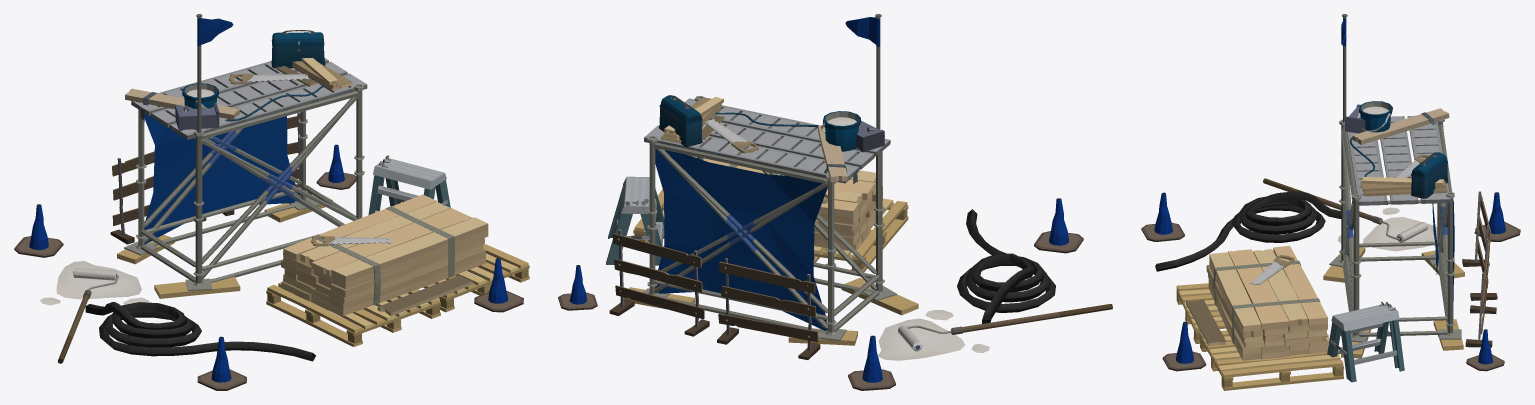
3 renders of one model, left to right at view 1: azimuth 30°, elevation 25°; view 2: azimuth 150°, elevation 25°; view 3: azimuth 270°, elevation 25°, orthographic. The views are drawn at different scales.
Visible parts, largest first — view 1: baseTutorial, midTutorial, RoofTutorial; view 2: baseTutorial, midTutorial, RoofTutorial; view 3: baseTutorial, midTutorial, RoofTutorial.
Boxes of the visible parts, bbox=[...] form: baseTutorial: bbox=[14, 62, 529, 390]; midTutorial: bbox=[131, 58, 367, 283]; RoofTutorial: bbox=[125, 14, 364, 283]; baseTutorial: bbox=[558, 100, 1112, 390]; midTutorial: bbox=[644, 96, 890, 332]; RoofTutorial: bbox=[644, 14, 890, 332]; baseTutorial: bbox=[1141, 101, 1520, 390]; midTutorial: bbox=[1339, 115, 1454, 336]; RoofTutorial: bbox=[1340, 14, 1454, 336].
Bounding box in the file's own units: 1.36 × 0.8097 × 1.08.
